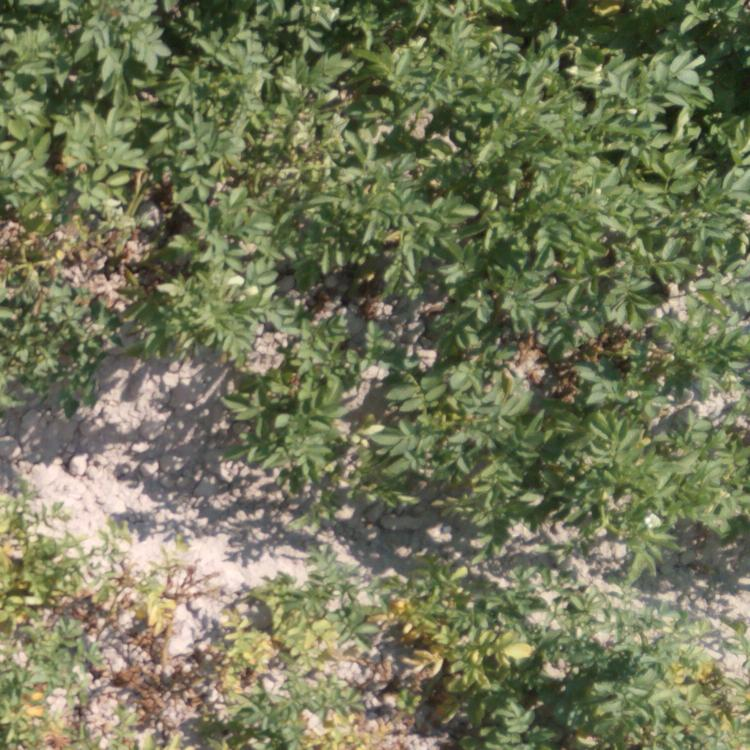healthy: (541, 175, 732, 378), (540, 381, 741, 562), (553, 2, 749, 169), (349, 158, 524, 342), (151, 1, 338, 170), (156, 171, 348, 329), (355, 1, 546, 157), (369, 358, 524, 527), (1, 1, 138, 174), (236, 348, 355, 475), (5, 312, 96, 419)
stressed: (3, 537, 194, 750), (376, 562, 570, 750), (203, 562, 372, 750), (587, 613, 748, 750), (18, 203, 146, 292)
